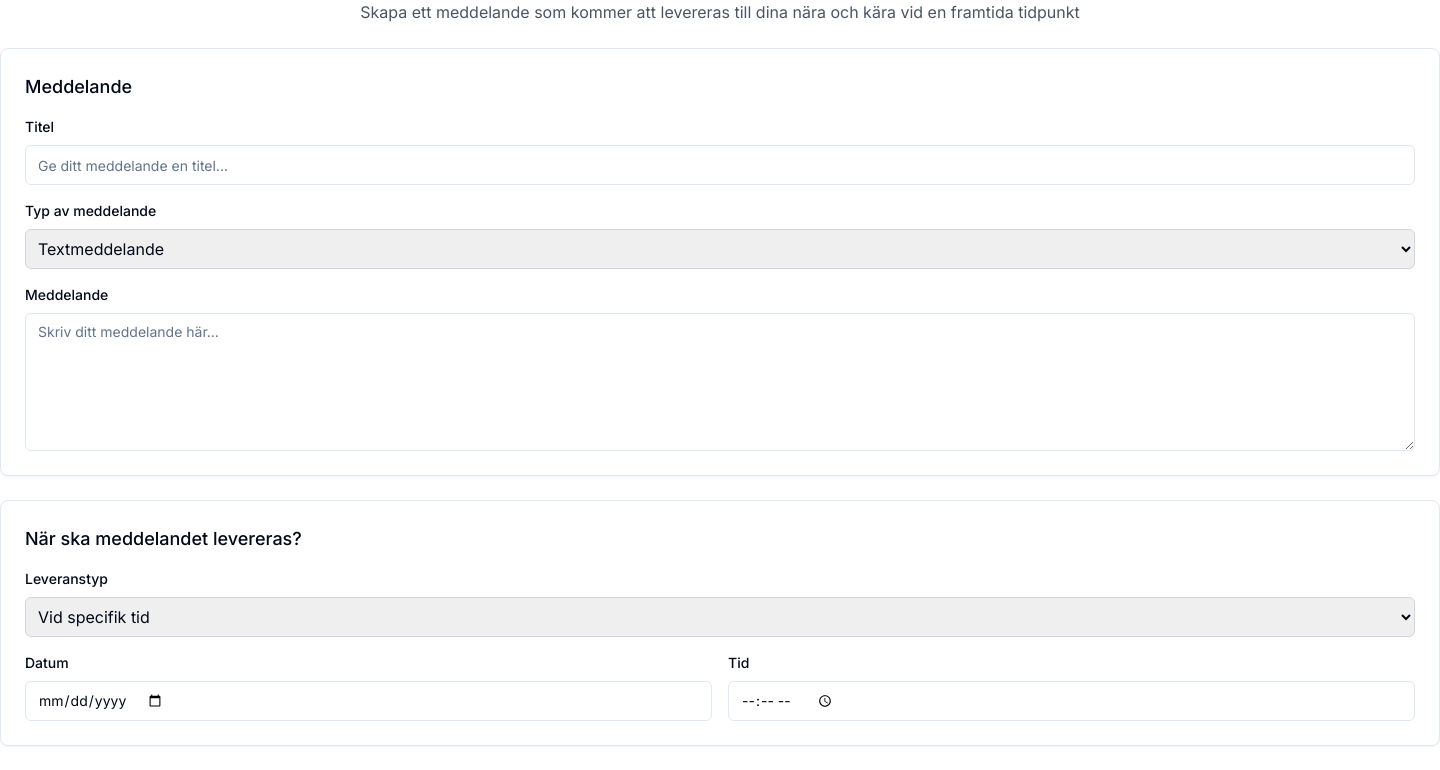
Test: Legacy System Integration › LegacyContentCreator Component › should show preview when content is filled
Fill in form
Type "Preview Test" into the field with placeholder "Ge ditt meddelande en titel..." at (720, 165), box [25, 145, 1415, 185]
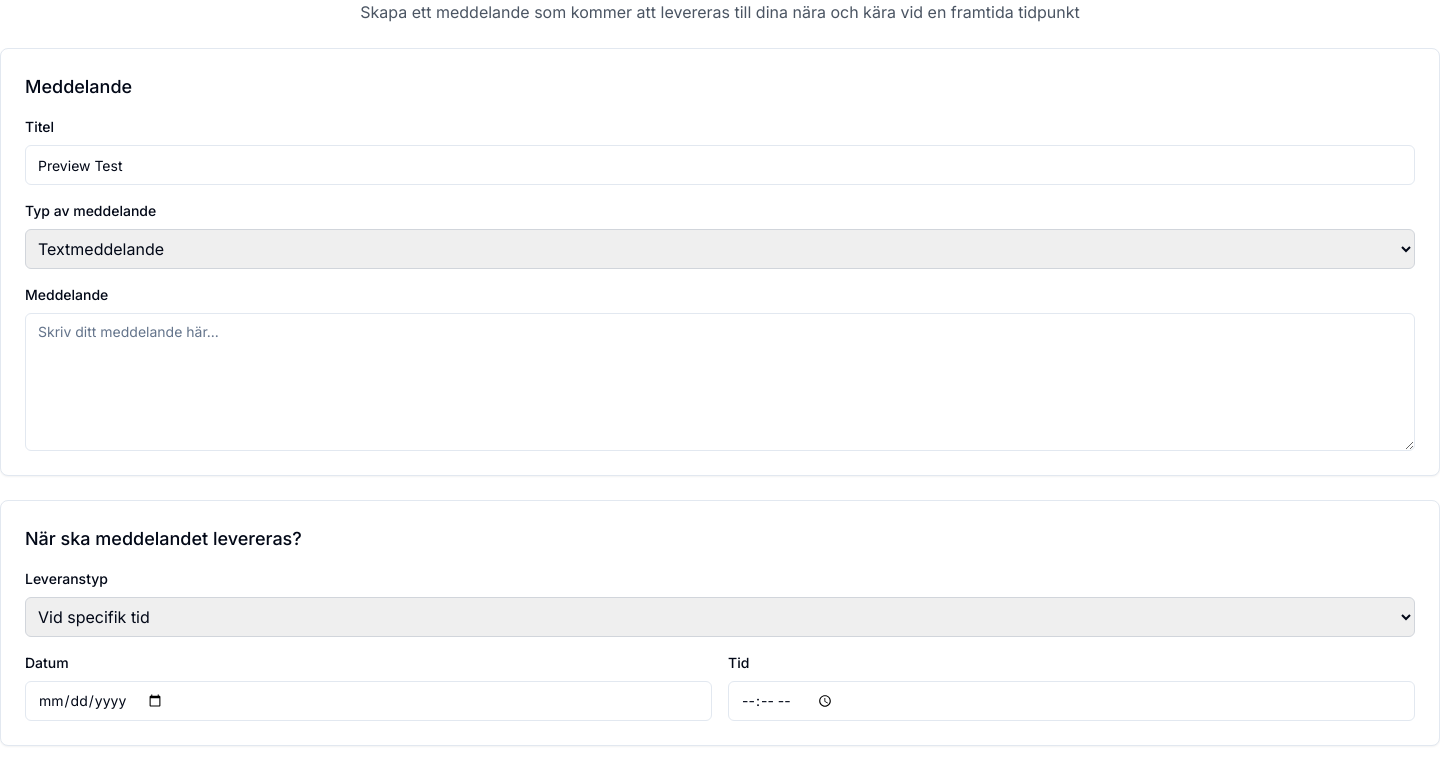
Type "Preview message content" into the text box with placeholder "Skriv ditt meddelande här..." at (720, 382), box [25, 313, 1415, 451]
(page scrolled)
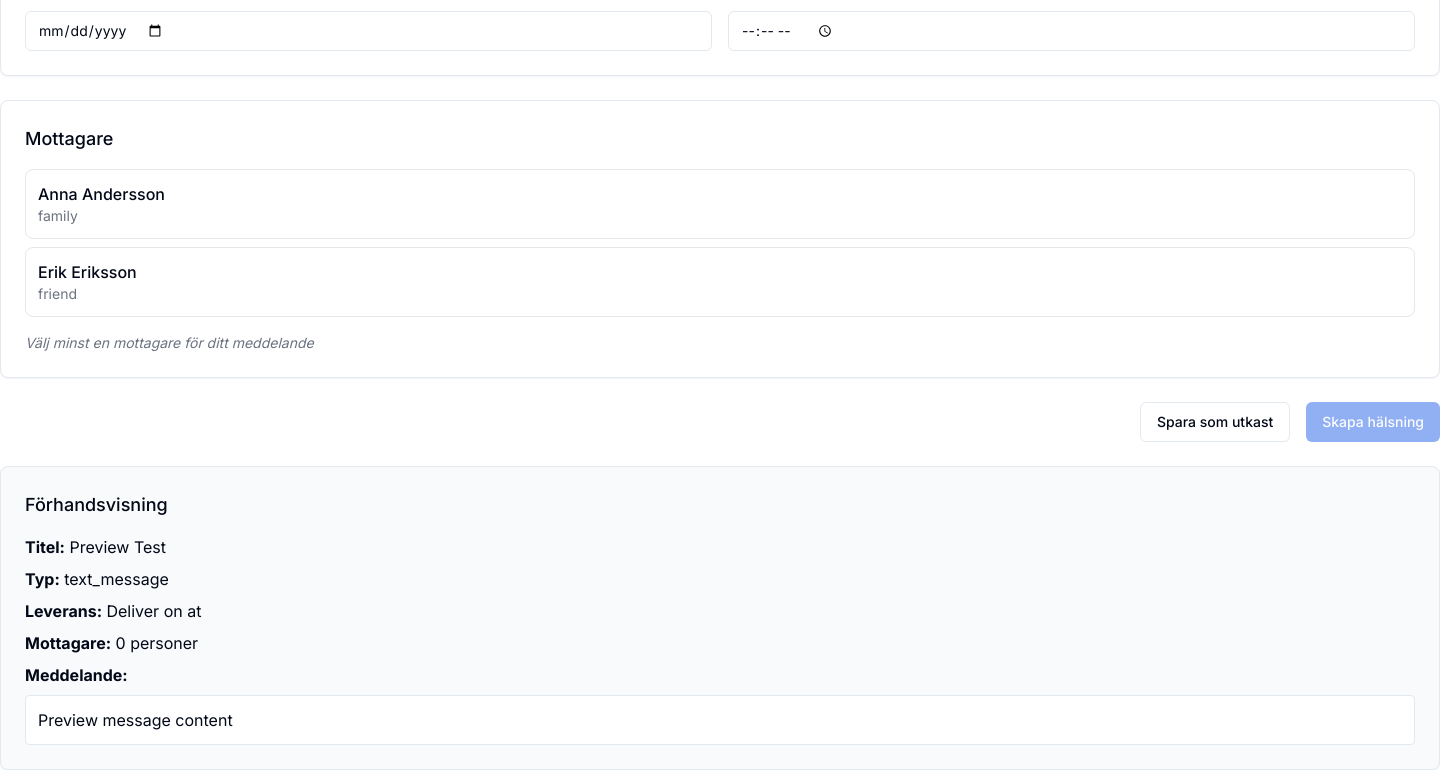
Now the heading "Förhandsvisning" is shown, box [25, 494, 168, 515]
Now the text "Preview Test" is shown, box [69, 537, 166, 557]
